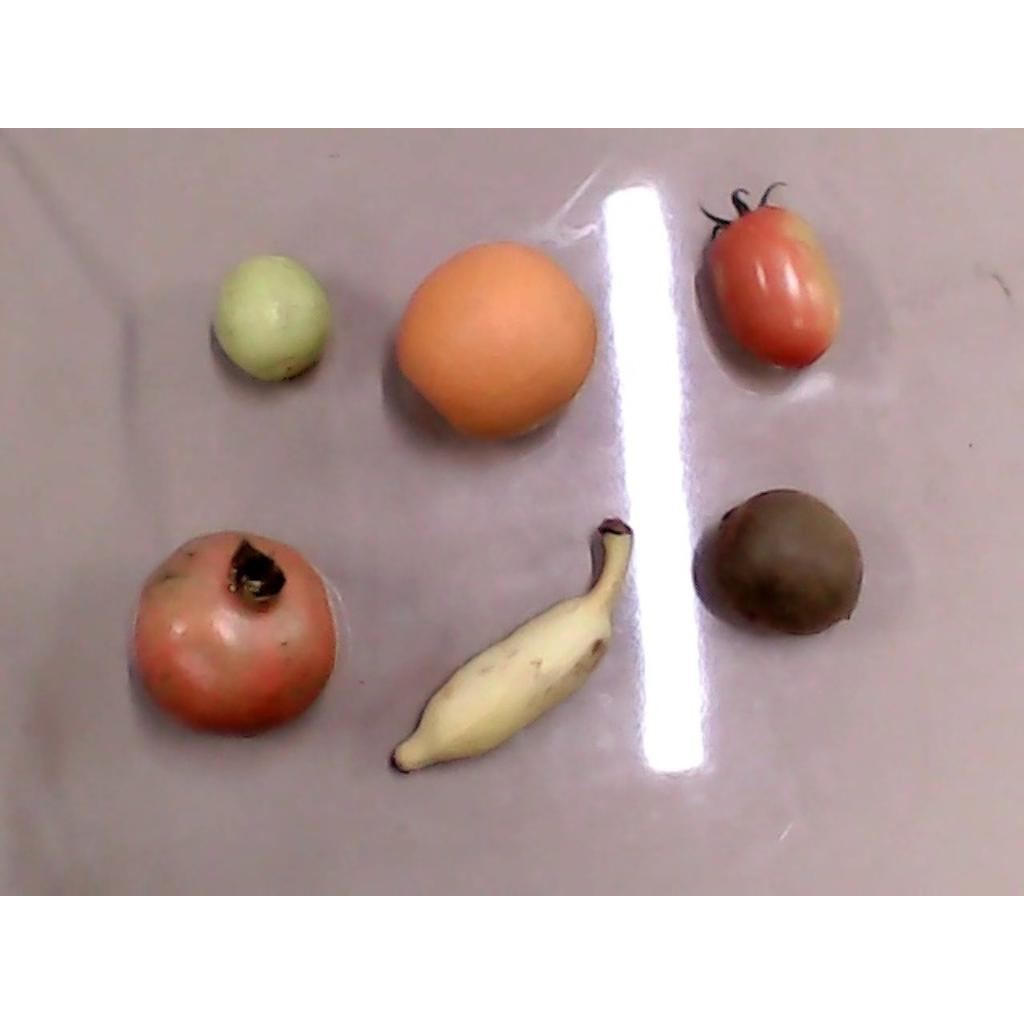kiwi: (709, 488, 864, 635)
lemon: (211, 255, 331, 380)
orange: (395, 242, 596, 438)
pomegranate: (130, 533, 338, 736)
tomato: (700, 181, 838, 367)
